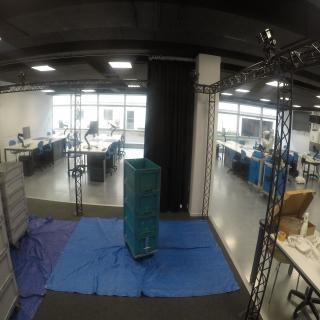BoxB4: (124, 218, 160, 256), (125, 158, 162, 193), (124, 201, 161, 236), (124, 182, 162, 216)
